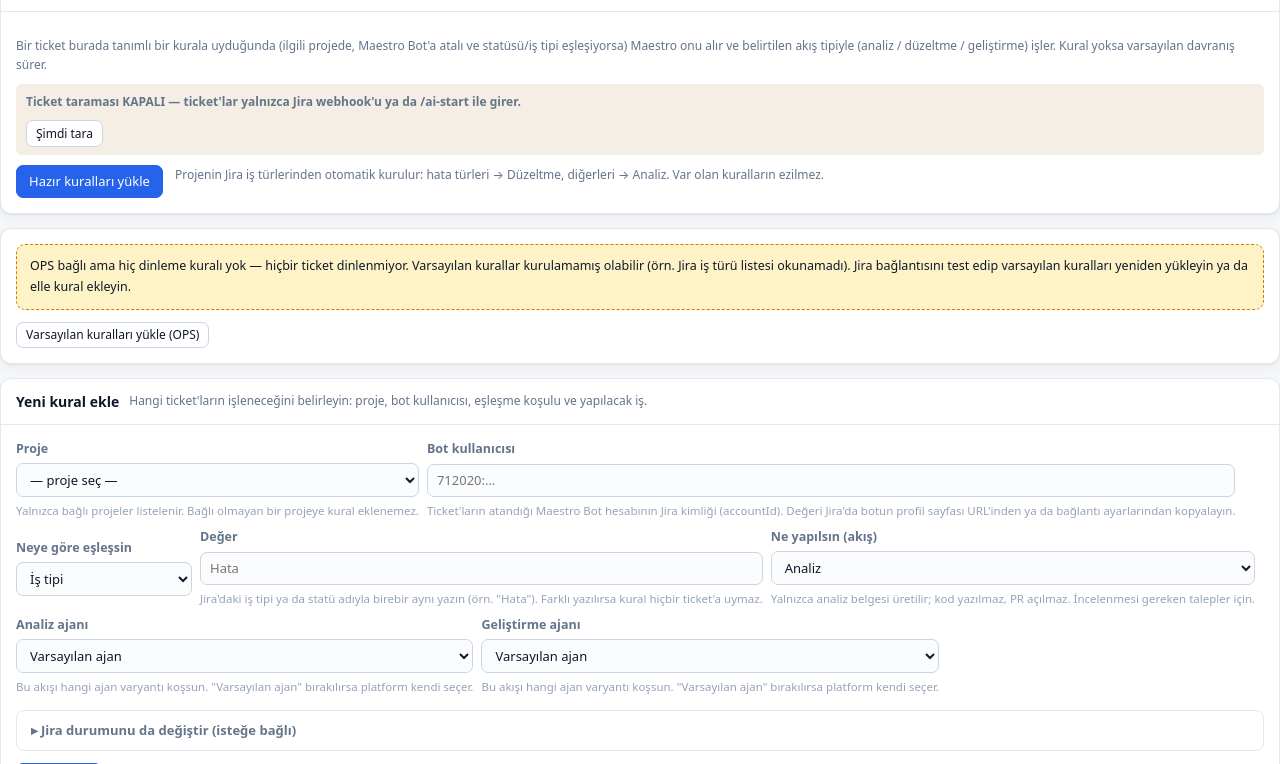
Test: ListeningScreen › Jira status map › keeps the five status fields hidden until the toggle is on
The image size is (1280, 764).
Expected: the heading "Yeni kural ekle" is shown, top-left (16, 390), bottom-right (119, 412)
Expected: the field labelled "İş başladığında" is not shown
Click the heading "Jira durumunu da değiştir (isteğe bağlı)": (168,730) top-left (16, 710), bottom-right (1264, 751)
(page scrolled)
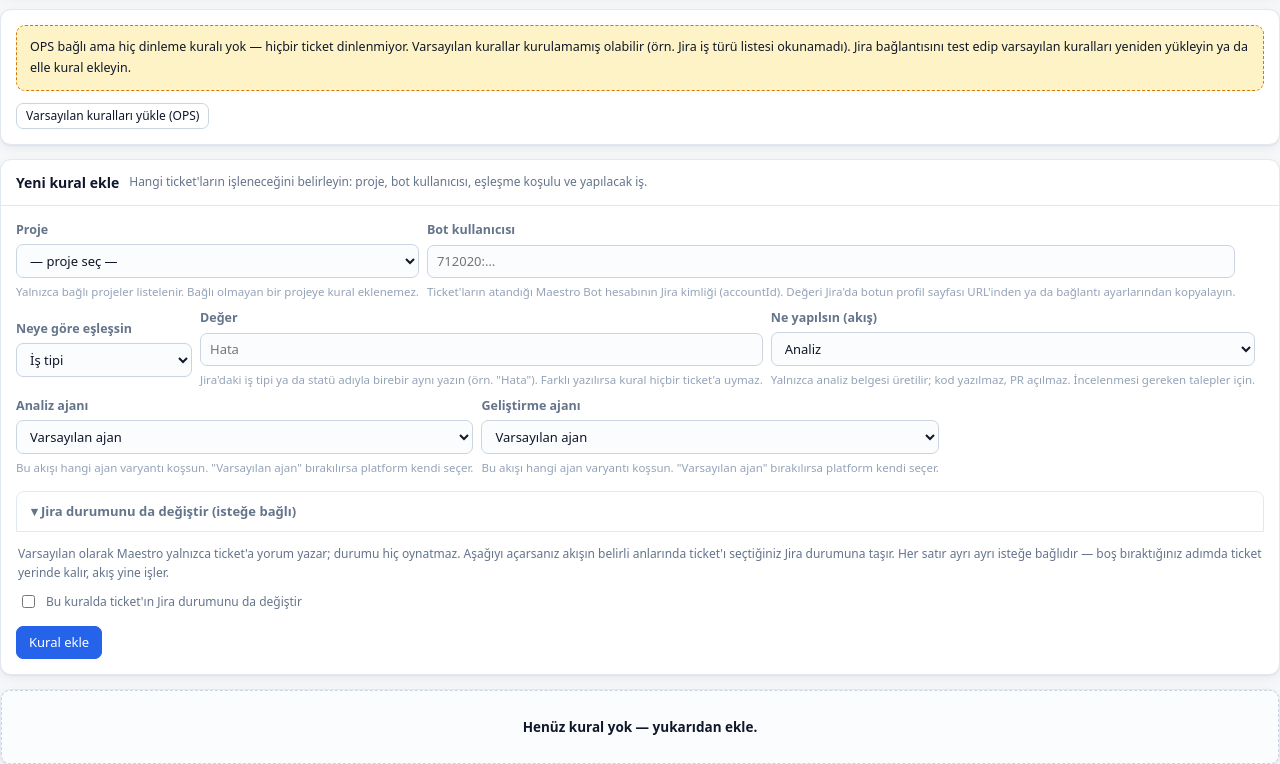
Expected: the field labelled "İş başladığında" is not shown
Click the checkbox labelled "Bu kuralda ticket'ın Jira durumunu da değiştir": (28,602) top-left (22, 596), bottom-right (35, 608)
(page scrolled)
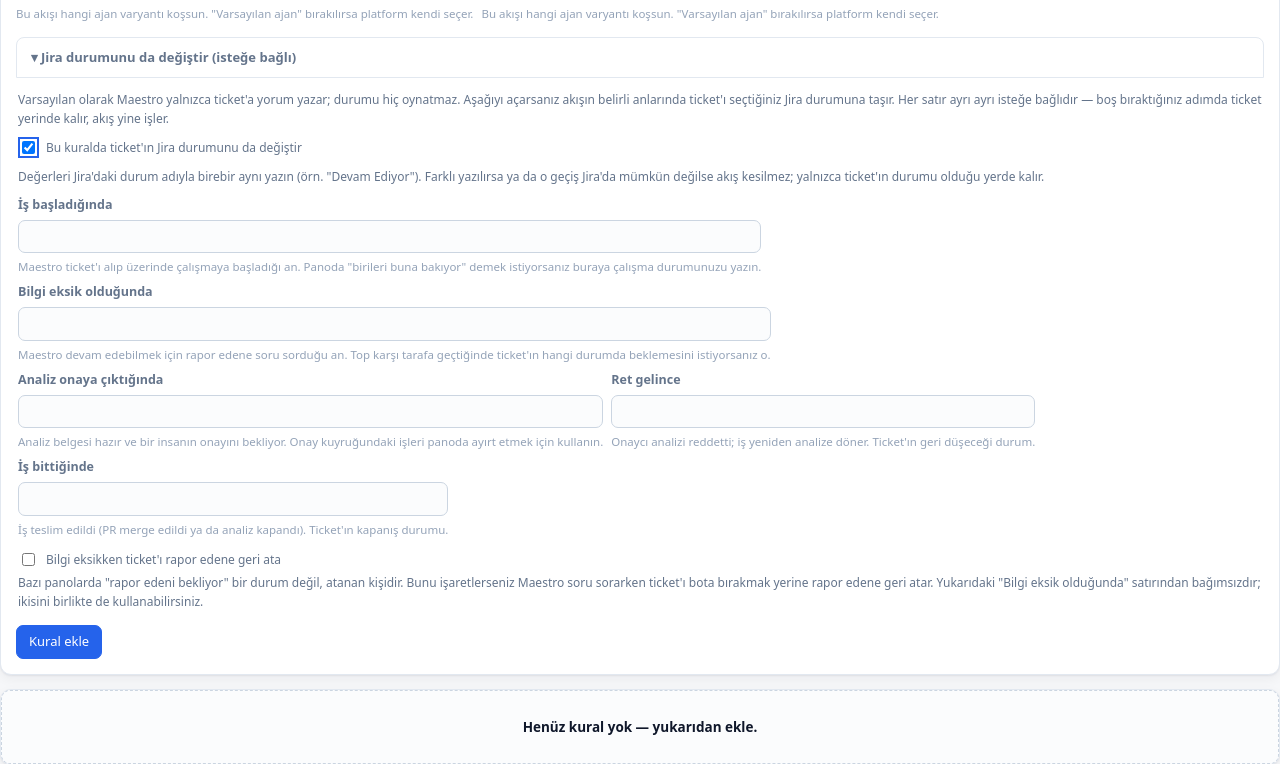
Expected: the field labelled "İş başladığında" is shown, top-left (18, 220), bottom-right (761, 253)
Expected: the field labelled "İş bittiğinde" is shown, top-left (18, 482), bottom-right (448, 516)
